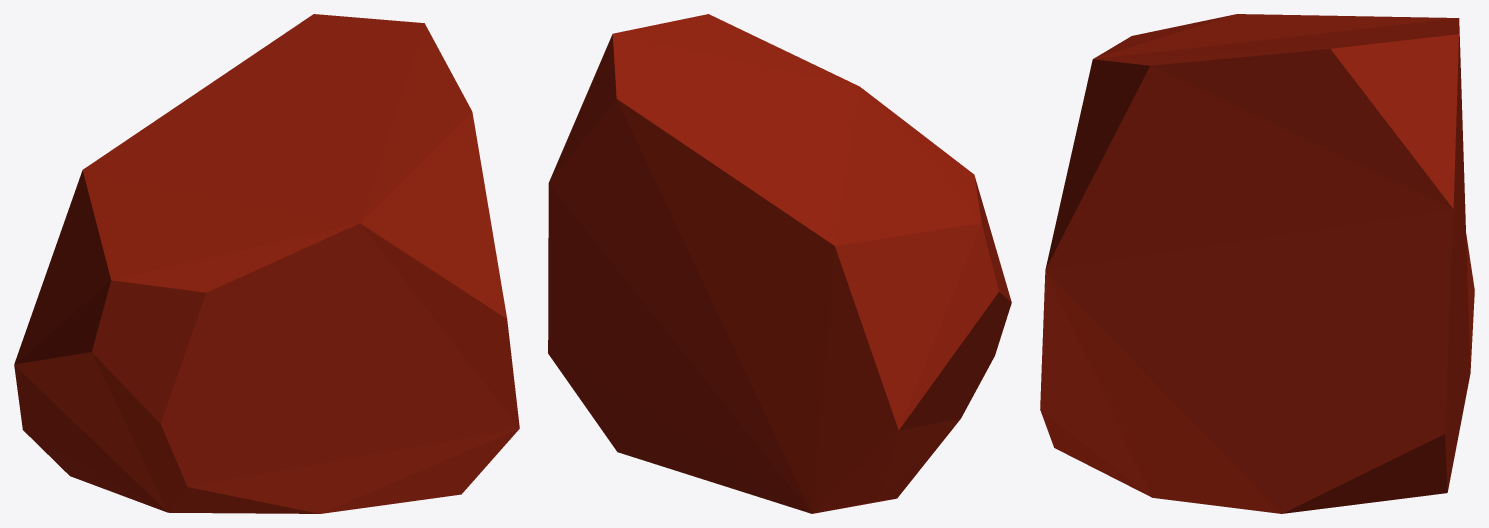
The model's file is SM_Simple_Rock_07.fbx.
3 renders of one model, left to right at view 1: azimuth 30°, elevation 25°; view 2: azimuth 150°, elevation 25°; view 3: azimuth 270°, elevation 25°, orthographic. The views are drawn at different scales.
Visible parts, largest first — view 1: SM_Simple_Rock_07; view 2: SM_Simple_Rock_07; view 3: SM_Simple_Rock_07.
Boxes of the visible parts, <box> form: SM_Simple_Rock_07: <box>14,14,519,513</box>; SM_Simple_Rock_07: <box>548,14,1011,513</box>; SM_Simple_Rock_07: <box>1040,14,1474,513</box>.
Bounding box in the file's own units: 22.75 × 22.2 × 18.12.
